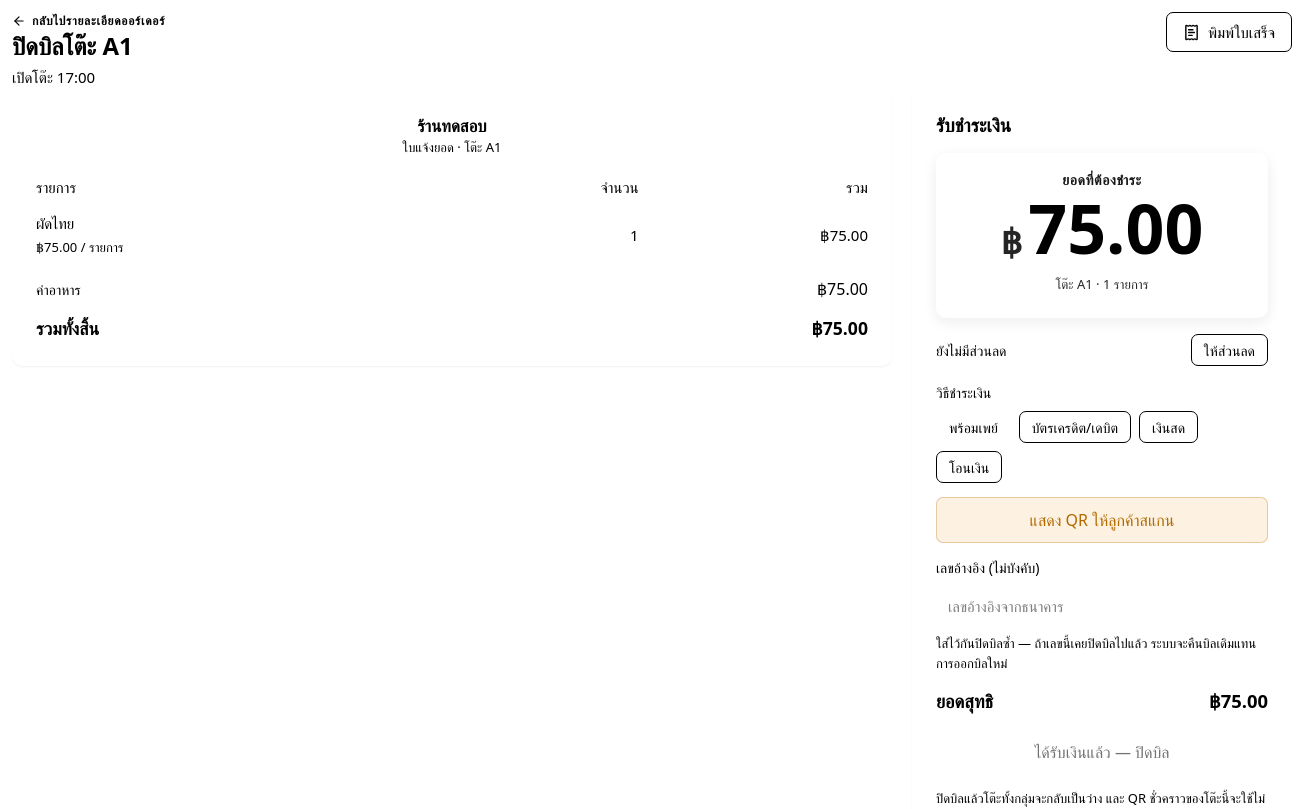
it: หน้าปิดบิลโต๊ะ — เงินทอน › รับไม่พอ → แถบแดงบอกยอดที่ขาด
Click the button "เงินสด": (1169, 428) [1139, 412, 1198, 444]
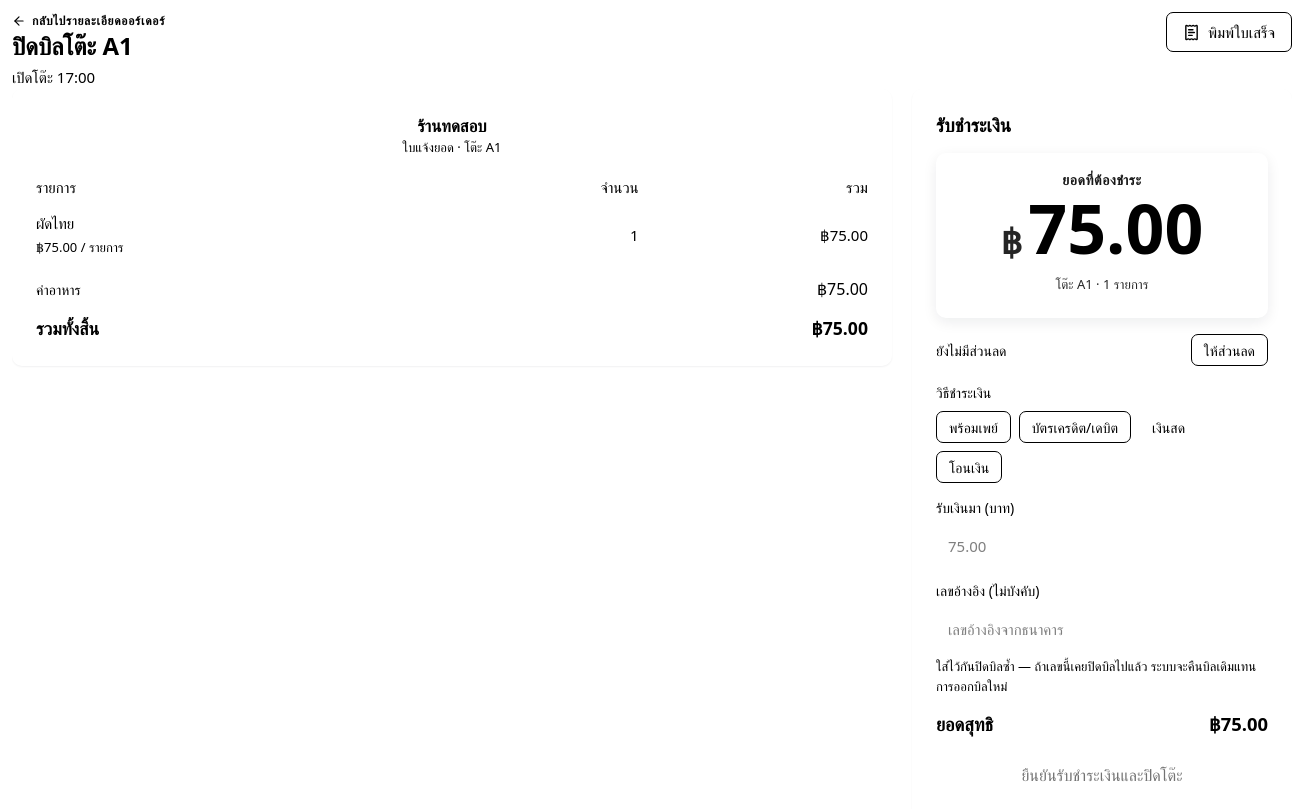
In the field labelled "รับเงินมา (บาท)": (1102, 546) [936, 526, 1268, 566], type "70"
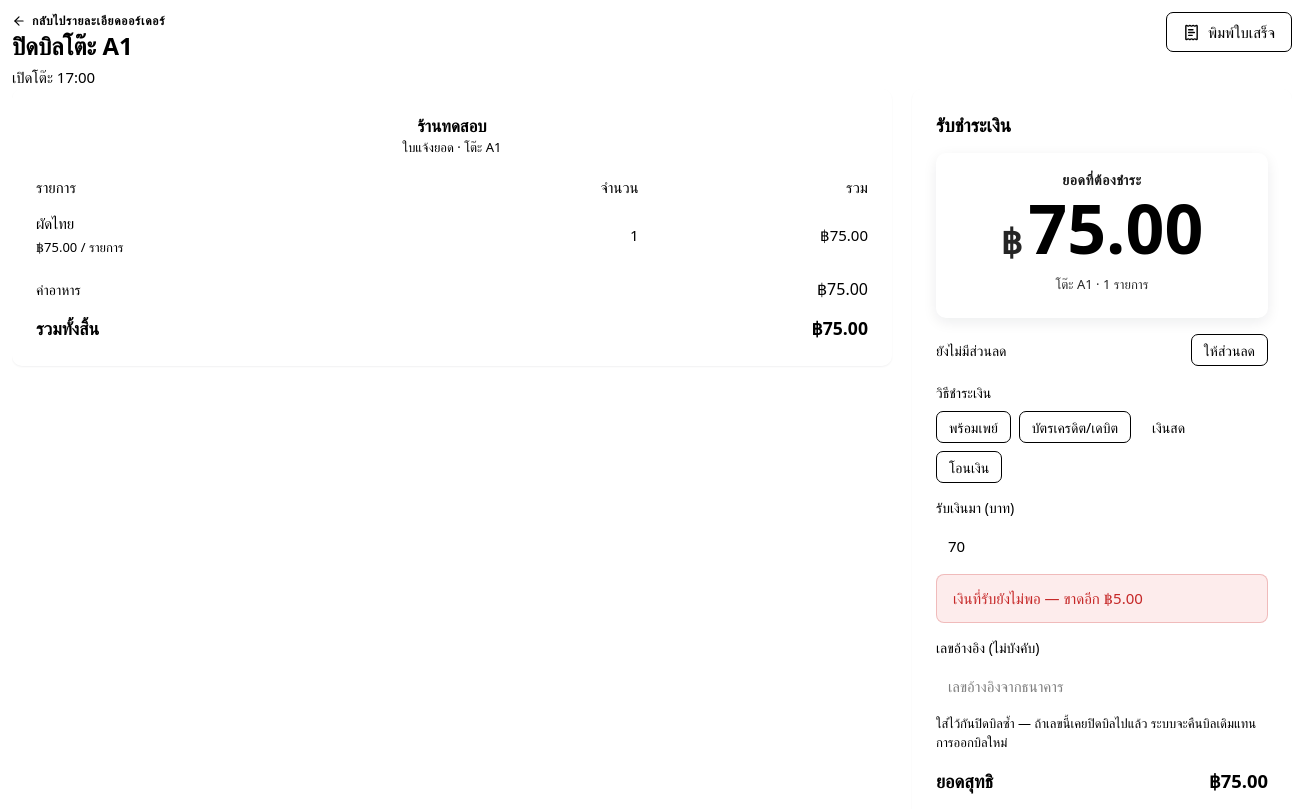
Check: the message shows "ขาดอีก ฿5.00", box [936, 574, 1268, 623]
